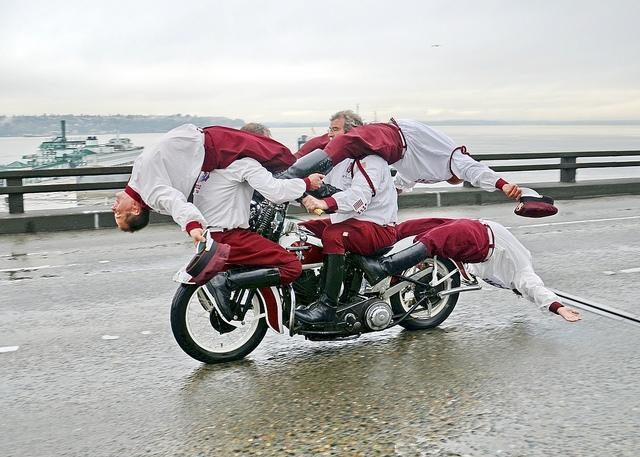motorcycle: (172, 196, 478, 368)
